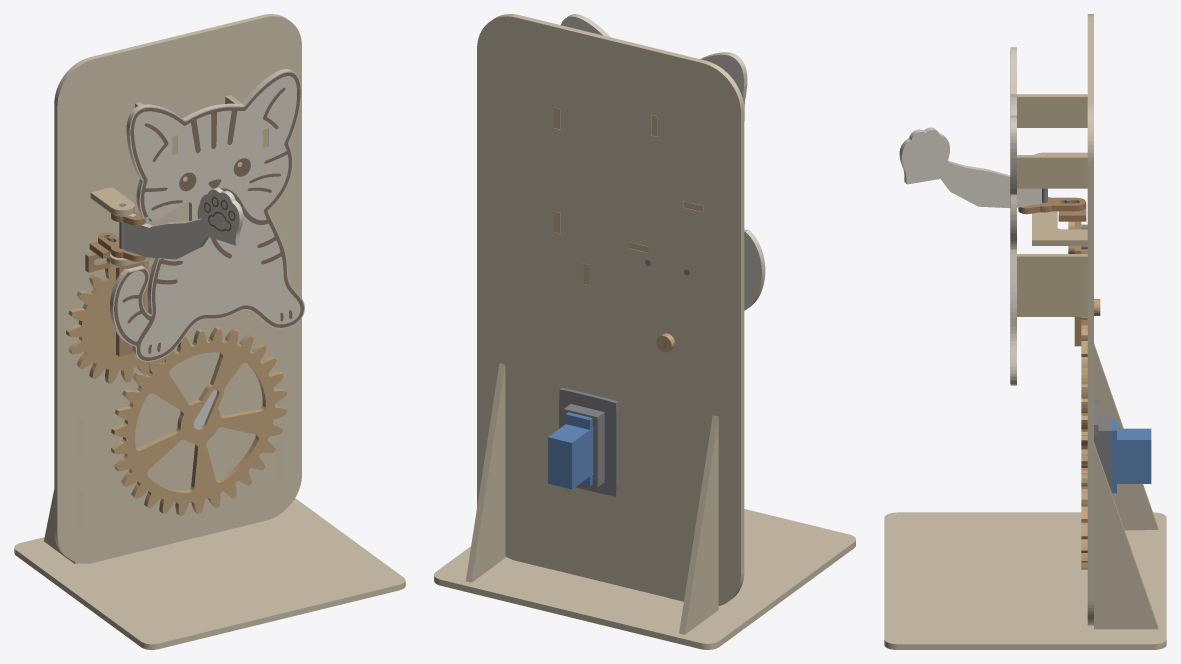
File: scuba_kitten_servo_assembled.glb
3 renders of one model, left to right at view 1: azimuth 30°, elevation 25°; view 2: azimuth 150°, elevation 25°; view 3: azimuth 270°, elevation 25°, orthographic. The views are drawn at different scales.
Visible parts, largest first — view 1: backboard, base, body, gearA, body_engraving, gearB, forearm, brace0, ubracket, shuttle, tiller; view 2: backboard, base, brace1, brace0, servo_mount, servo_body, body; view 3: base, brace1, forearm, backboard, brace0, standoff0, standoff1, standoff2, servo_body, body, standoff3, gearA (+3 smaller).
Boxes of the visible parts, x1=… form: backboard: x1=54, y1=14, x2=301, y2=563; base: x1=14, y1=498, x2=405, y2=649; body: x1=110, y1=69, x2=304, y2=361; gearA: x1=111, y1=327, x2=286, y2=515; body_engraving: x1=114, y1=72, x2=303, y2=360; gearB: x1=66, y1=260, x2=164, y2=383; forearm: x1=123, y1=187, x2=243, y2=259; brace0: x1=44, y1=418, x2=83, y2=563; ubracket: x1=90, y1=187, x2=134, y2=215; shuttle: x1=85, y1=243, x2=144, y2=356; tiller: x1=98, y1=232, x2=145, y2=261; backboard: x1=477, y1=14, x2=744, y2=605; base: x1=434, y1=509, x2=855, y2=649; brace1: x1=465, y1=363, x2=505, y2=582; brace0: x1=679, y1=415, x2=718, y2=634; servo_mount: x1=559, y1=388, x2=618, y2=496; servo_body: x1=548, y1=412, x2=593, y2=489; body: x1=561, y1=14, x2=765, y2=310; base: x1=884, y1=512, x2=1166, y2=649; brace1: x1=1094, y1=443, x2=1158, y2=629; forearm: x1=899, y1=127, x2=1041, y2=208; backboard: x1=1087, y1=14, x2=1093, y2=625; brace0: x1=1094, y1=343, x2=1158, y2=530; standoff0: x1=1017, y1=94, x2=1087, y2=127; standoff1: x1=1017, y1=155, x2=1087, y2=188; standoff2: x1=1017, y1=254, x2=1087, y2=287; servo_body: x1=1111, y1=419, x2=1151, y2=493; body: x1=1010, y1=47, x2=1016, y2=385; standoff3: x1=1017, y1=287, x2=1087, y2=316; gearA: x1=1081, y1=366, x2=1087, y2=569.
Size of the model in its own units: 146 by 269 by 132.
